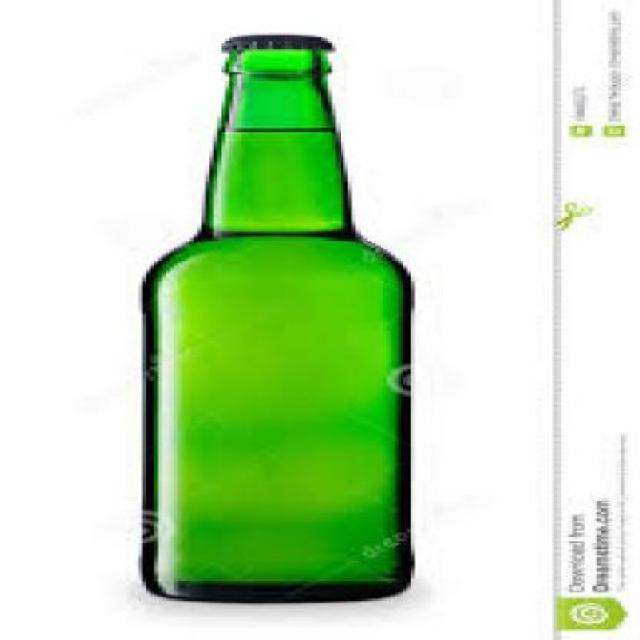kaca: (134, 45, 411, 603)
